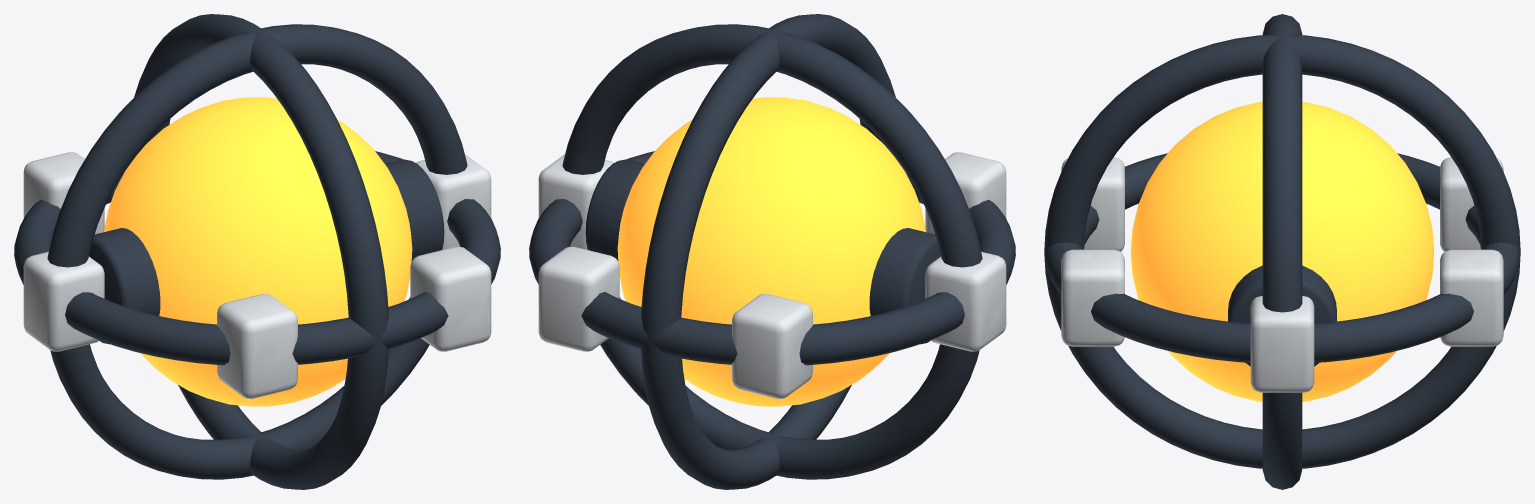
File: powerup_heavy.glb
The picture shows the model from 3 angles, left to right: view 1: azimuth 30°, elevation 25°; view 2: azimuth 150°, elevation 25°; view 3: azimuth 270°, elevation 25°; orthographic projection. The views are drawn at different scales.
Visible parts, largest first — view 1: ASSET_powerup_heavy; view 2: ASSET_powerup_heavy; view 3: ASSET_powerup_heavy.
Part boxes in pixels (<box>): ASSET_powerup_heavy: <box>14,14,500,489</box>; ASSET_powerup_heavy: <box>529,14,1015,489</box>; ASSET_powerup_heavy: <box>1044,14,1520,489</box>.
Size of the model in its own units: 1.65 by 1.57 by 1.57.
